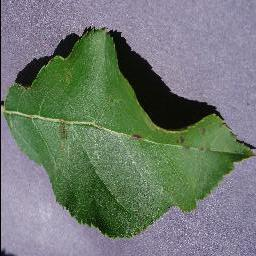apple healthy: (1, 24, 255, 240)
